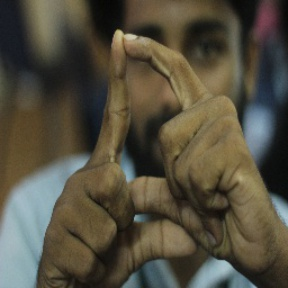D: (83, 24, 224, 225)
